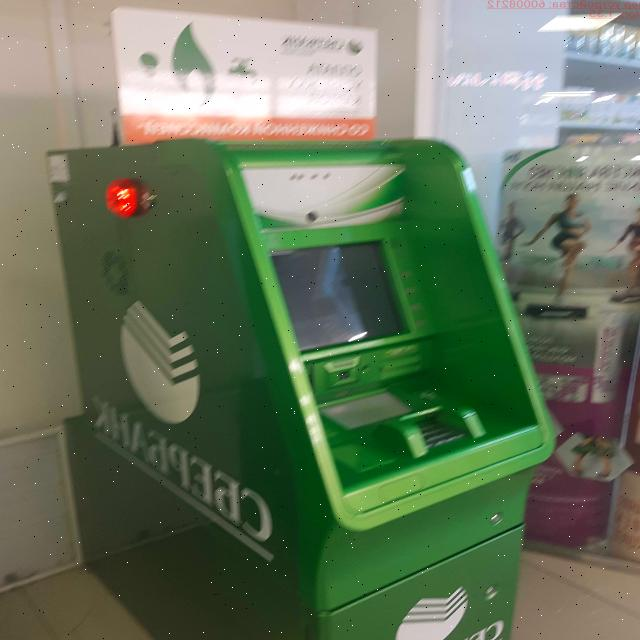bank: (59, 133, 559, 640)
